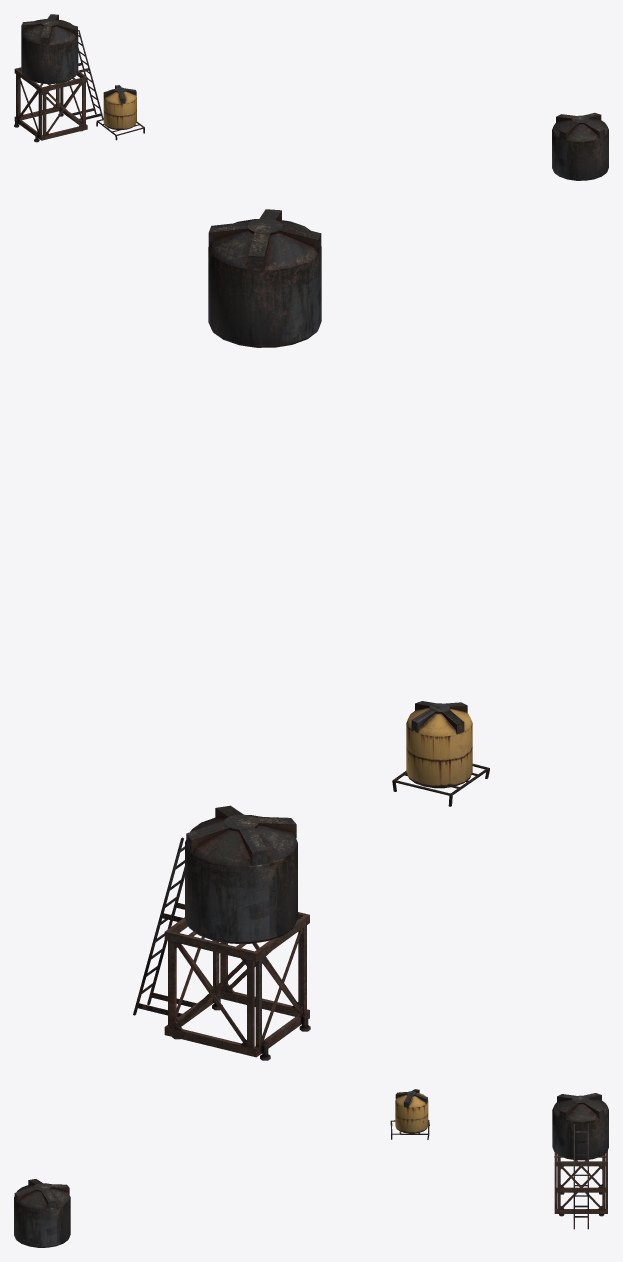
File: ExteriorTanks.FBX
The picture shows the model from 3 angles, top to bottom: view 1: azimuth 30°, elevation 25°; view 2: azimuth 150°, elevation 25°; view 3: azimuth 270°, elevation 25°; orthographic projection. The views are drawn at different scales.
Parts seen in each view (by area): view 1: ExteriorTanks; view 2: ExteriorTanks; view 3: ExteriorTanks.
Part boxes in pixels (x1,y1,x2,y2): ExteriorTanks: (14, 14, 608, 180); ExteriorTanks: (133, 209, 489, 1060); ExteriorTanks: (14, 1089, 608, 1247).
Size of the model in its own units: 1759 by 778 by 2915.
